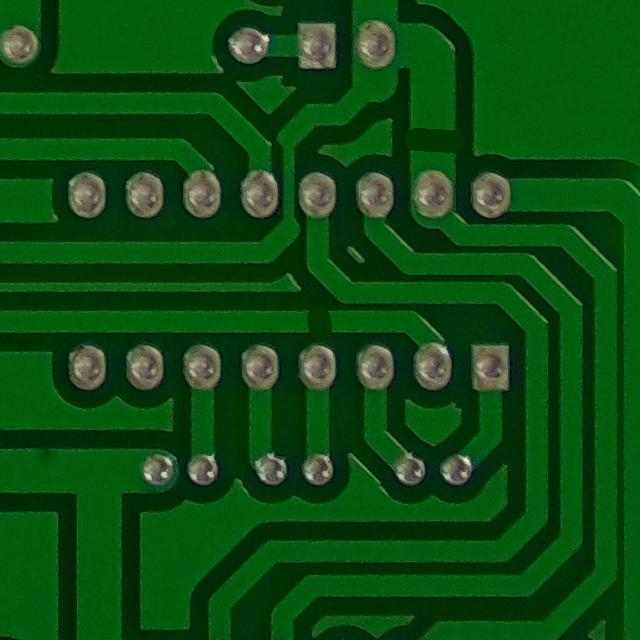open_circuit: (290, 298, 351, 343)
